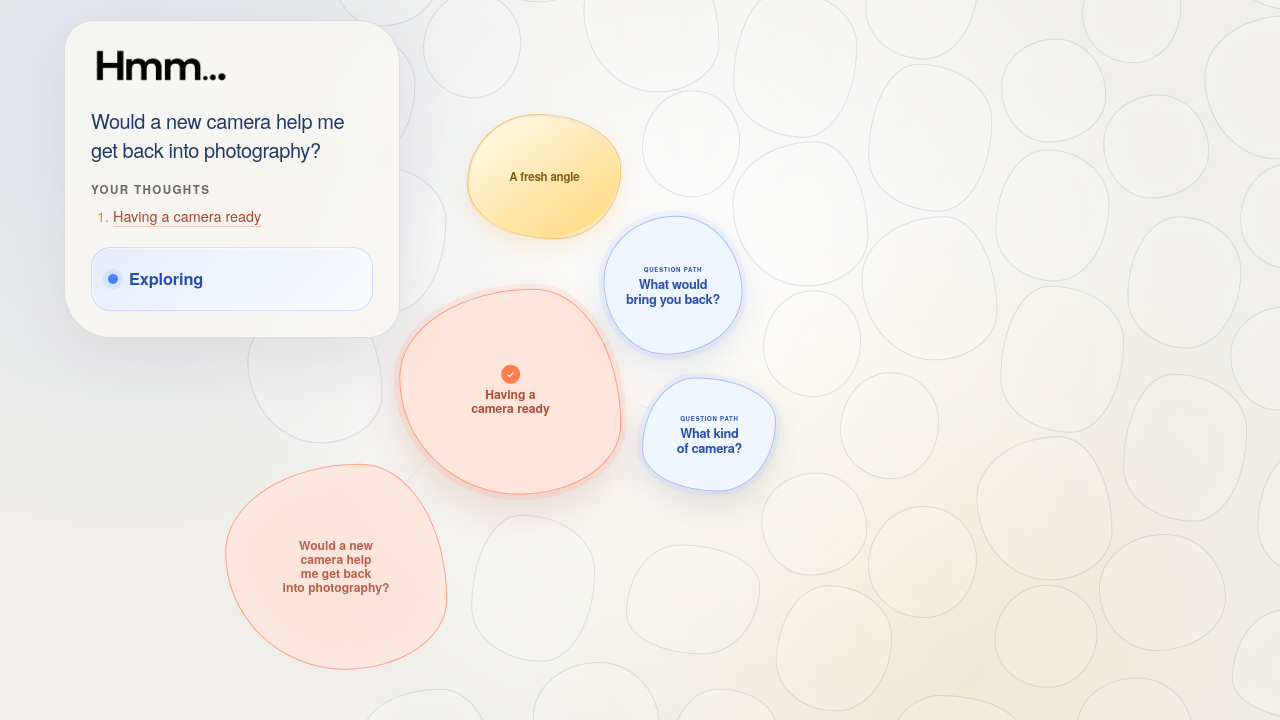
Test: ThoughtCanvas discovery › opens the contextual fortune without changing the reflection
Click the button with aria-label "Open a refreshing angle": [544, 177] box [470,117,619,237]
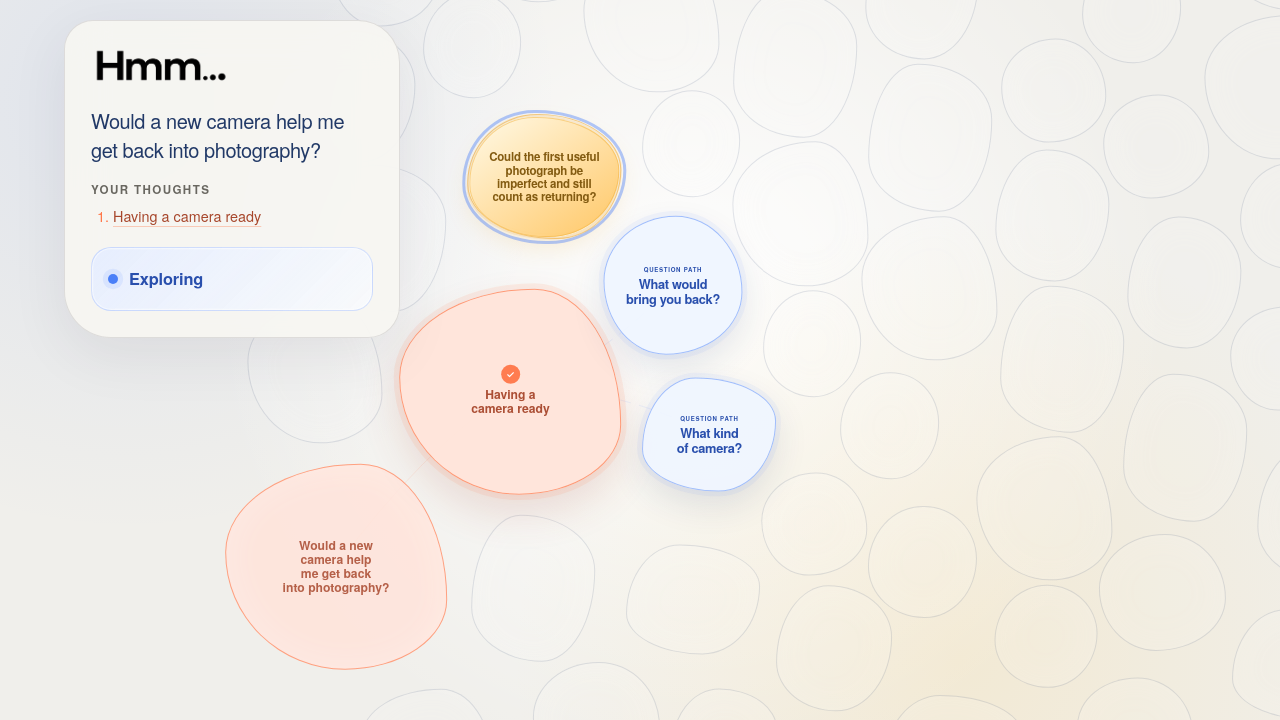
Expected: the number of buttons named "Explore" is 2, [604,217,742,354]; [643,379,776,490]
Expected: the button "Could the first useful photograph be imperfect and still count as returning?" is shown, [470,117,619,237]
